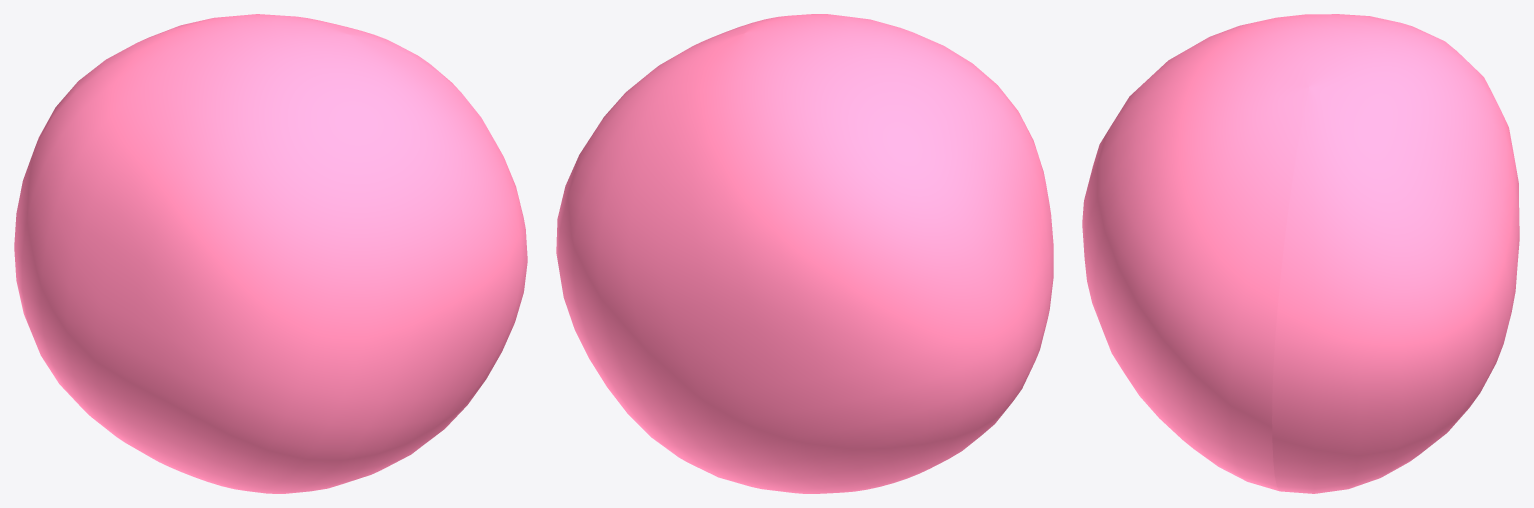
File: LovenseOrb_Core.dae
3 views of the same model, side by side, from view 1: azimuth 30°, elevation 25°; view 2: azimuth 150°, elevation 25°; view 3: azimuth 270°, elevation 25° (orthographic). The views are drawn at different scales.
Parts seen in each view (by area): view 1: Core; view 2: Core; view 3: Core.
Boxes of the visible parts, x1=… form: Core: x1=14, y1=14, x2=527, y2=493; Core: x1=556, y1=14, x2=1053, y2=493; Core: x1=1082, y1=14, x2=1519, y2=493.
Size of the model in its own units: 0.0194 by 0.0173 by 0.0183.
